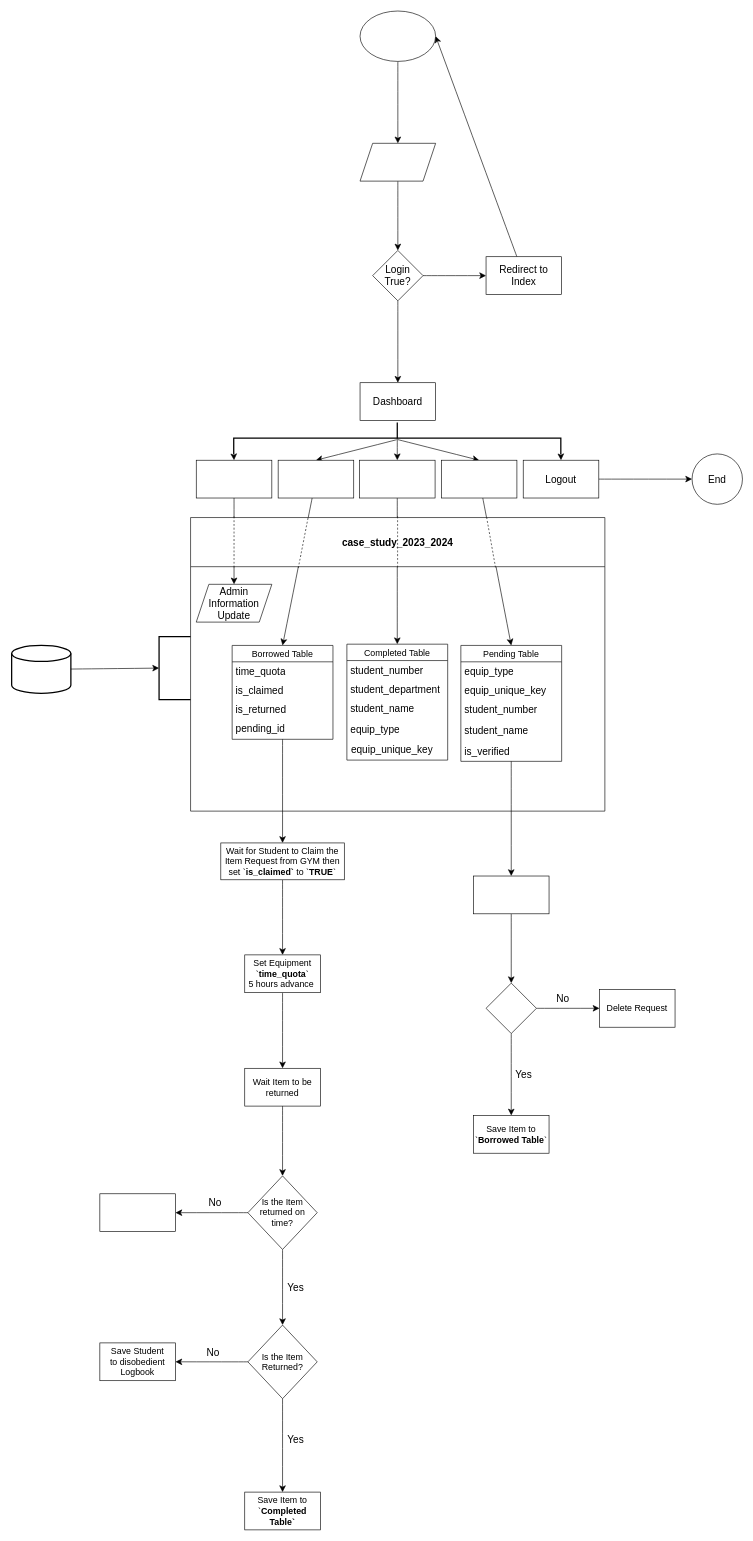
The diagram is 753 pixels wide and 1541 high, and some of its shapes have lost their labels. Each missing label, with the centre of its shape:
"Borrowed Items" belongs at (316,479).
"Database" belongs at (41,669).
"Disciplinary action to Student" belongs at (137,1212).
"History Items" belongs at (397,479).
"Pending Items" belongs at (479,479).
"Settings" belongs at (234,479).
"Start" belongs at (397,35).
"Username Password" belongs at (397,162).
"Verified?" belongs at (510,1008).
"Verify Student Request" belongs at (511,894).
